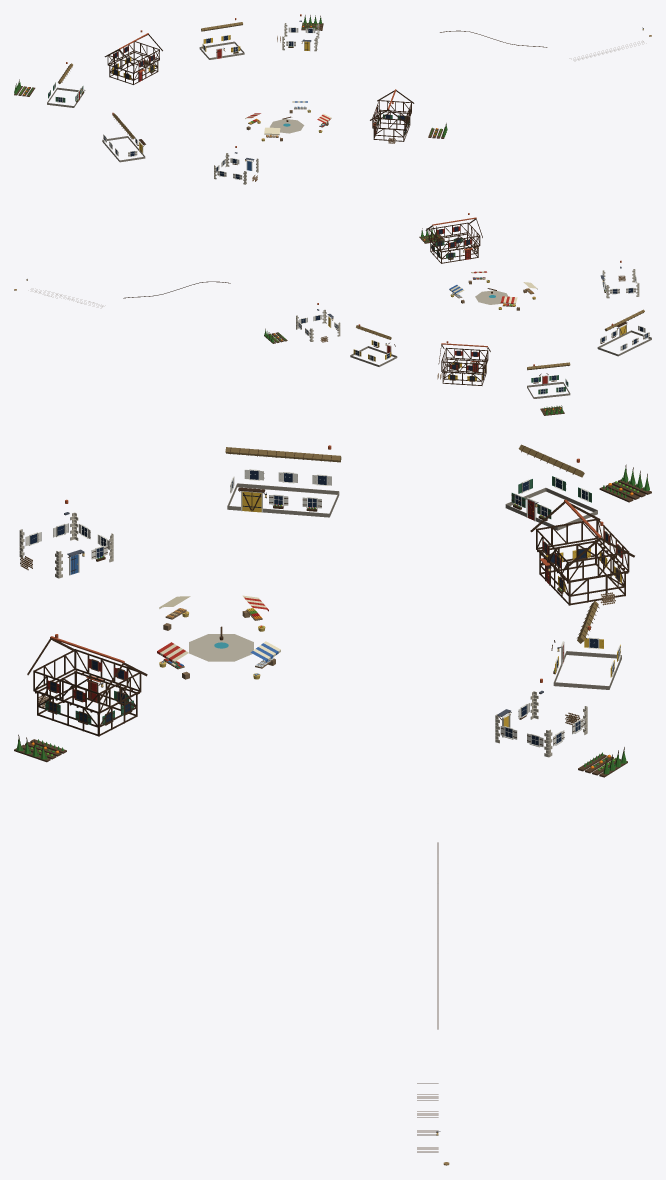
File: SM_WillowPond_Detail_NoCol.fbx
3 views of the same model, one above another, from view 1: azimuth 30°, elevation 25°; view 2: azimuth 150°, elevation 25°; view 3: azimuth 270°, elevation 25° (orthographic). The views are drawn at different scales.
Visible parts, largest first — view 1: SM_WillowPond_Detail_NoCol; view 2: SM_WillowPond_Detail_NoCol; view 3: SM_WillowPond_Detail_NoCol.
Boxes of the visible parts, x1,y1,x2,y2 form: SM_WillowPond_Detail_NoCol: (14,14,651,184); SM_WillowPond_Detail_NoCol: (14,213,651,415); SM_WillowPond_Detail_NoCol: (14,444,651,1165).
Size of the model in its own units: 133 by 19.62 by 61.82.
